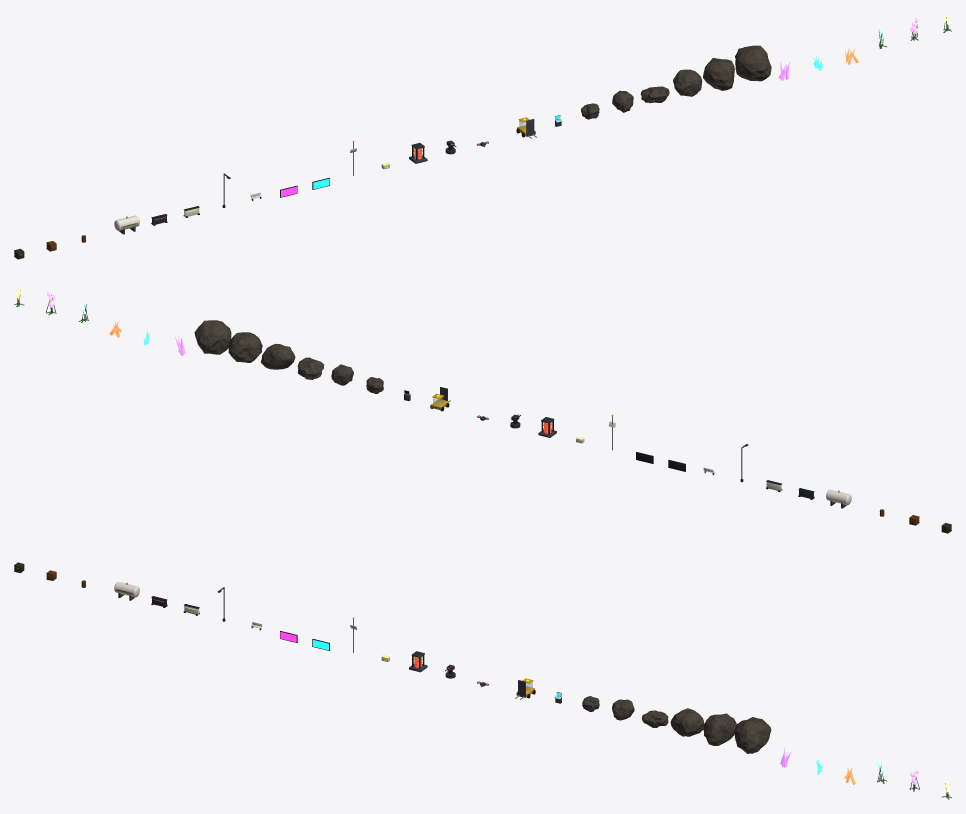
The model's file is props_world.glb.
The picture shows the model from 3 angles, top to bottom: view 1: azimuth 30°, elevation 25°; view 2: azimuth 150°, elevation 25°; view 3: azimuth 330°, elevation 25°; orthographic projection.
Visible parts, largest first — view 1: PR_rock_5_mesh, PR_rock_4_mesh, PR_rock_3_mesh; view 2: PR_rock_5_mesh, PR_rock_4_mesh, PR_rock_3_mesh; view 3: PR_rock_5_mesh, PR_rock_4_mesh, PR_rock_3_mesh.
Part boxes in pixels (x1,y1,x2,y2): PR_rock_5_mesh: (735, 45, 771, 81); PR_rock_4_mesh: (703, 58, 734, 90); PR_rock_3_mesh: (673, 69, 702, 96); PR_rock_5_mesh: (194, 320, 231, 354); PR_rock_4_mesh: (228, 332, 262, 362); PR_rock_3_mesh: (261, 343, 295, 369); PR_rock_5_mesh: (734, 717, 771, 753); PR_rock_4_mesh: (703, 713, 736, 745); PR_rock_3_mesh: (670, 708, 704, 736).
Size of the model in its own units: 173 by 7.96 by 7.04.
26 materials, 4 textured.
